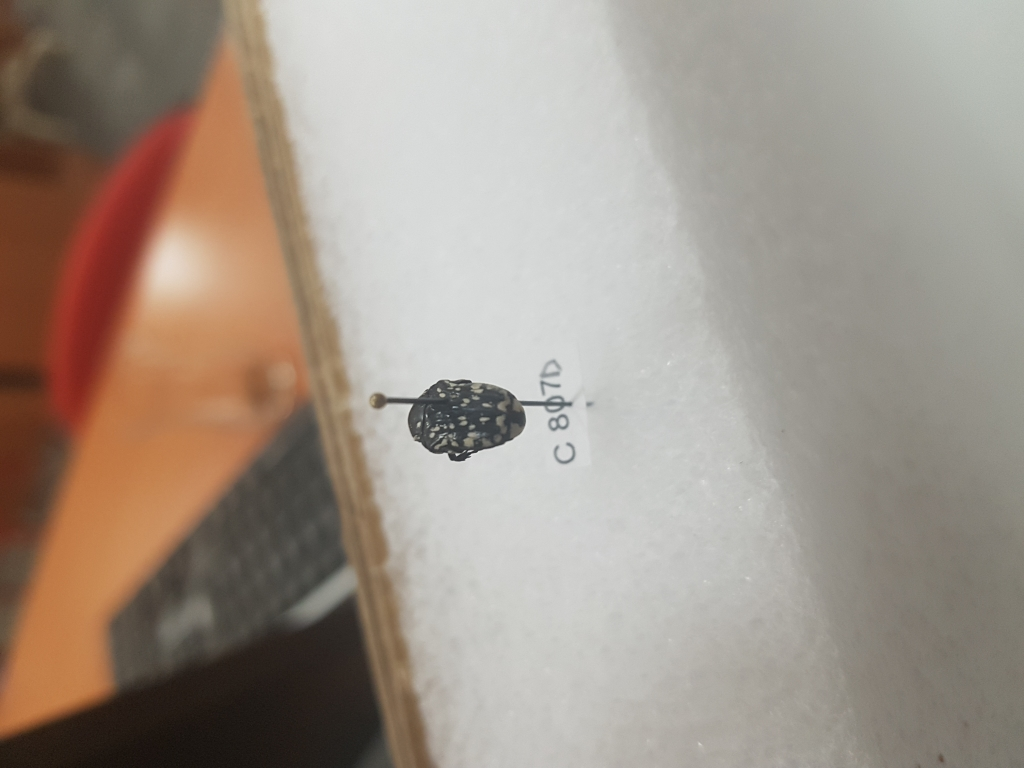Oxythyrea_albopicta: (405, 371, 525, 463)
